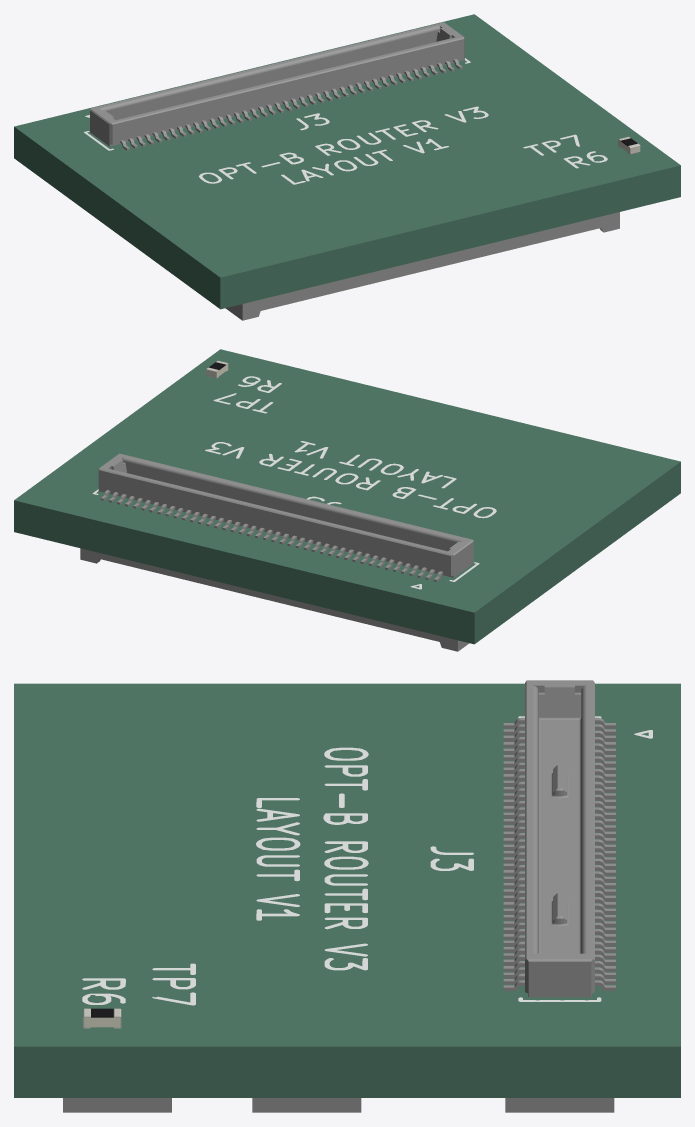
The model's file is optb-router-v3-layout-v1.glb.
3 views of the same model, one above another, from view 1: azimuth 30°, elevation 25°; view 2: azimuth 150°, elevation 25°; view 3: azimuth 270°, elevation 25° (orthographic). The views are drawn at different scales.
Parts seen in each view (by area): view 1: =>[0:1:1:10], =>[0:1:1:3], =>[0:1:1:7], =>[0:1:1:8]; view 2: =>[0:1:1:10], =>[0:1:1:3], =>[0:1:1:8], =>[0:1:1:7]; view 3: =>[0:1:1:10], =>[0:1:1:3], =>[0:1:1:8], =>[0:1:1:7] (×3), =>[0:1:1:5].
Boxes of the visible parts, x1,y1,x2,y2 form: =>[0:1:1:10]: (14, 14, 680, 309); =>[0:1:1:3]: (90, 22, 464, 150); =>[0:1:1:7]: (225, 212, 619, 320); =>[0:1:1:8]: (84, 58, 607, 184); =>[0:1:1:10]: (14, 349, 680, 644); =>[0:1:1:3]: (98, 453, 473, 581); =>[0:1:1:8]: (92, 376, 496, 589); =>[0:1:1:7]: (80, 548, 469, 651); =>[0:1:1:10]: (14, 683, 680, 1097); =>[0:1:1:3]: (503, 680, 615, 997); =>[0:1:1:8]: (82, 716, 652, 1005); =>[0:1:1:7] (×3): (63, 1098, 614, 1112); =>[0:1:1:5]: (83, 1008, 121, 1028).
Size of the model in its own units: 0.0227 by 0.0042 by 0.0176.
